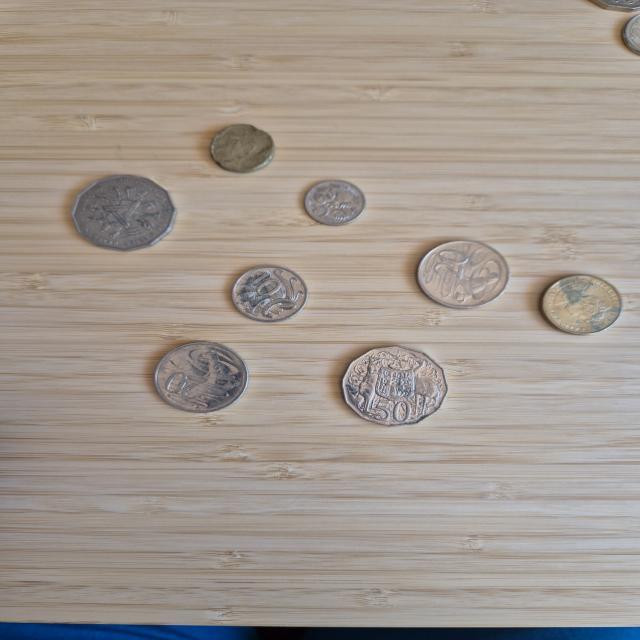1-dollar: (538, 273, 624, 339)
10-cents: (224, 265, 310, 326)
2-dollar: (202, 122, 278, 176)
20-cents: (142, 339, 250, 419), (411, 238, 511, 312)
5-cents: (300, 177, 369, 230)
50-cents: (339, 345, 451, 430), (64, 173, 178, 255)
